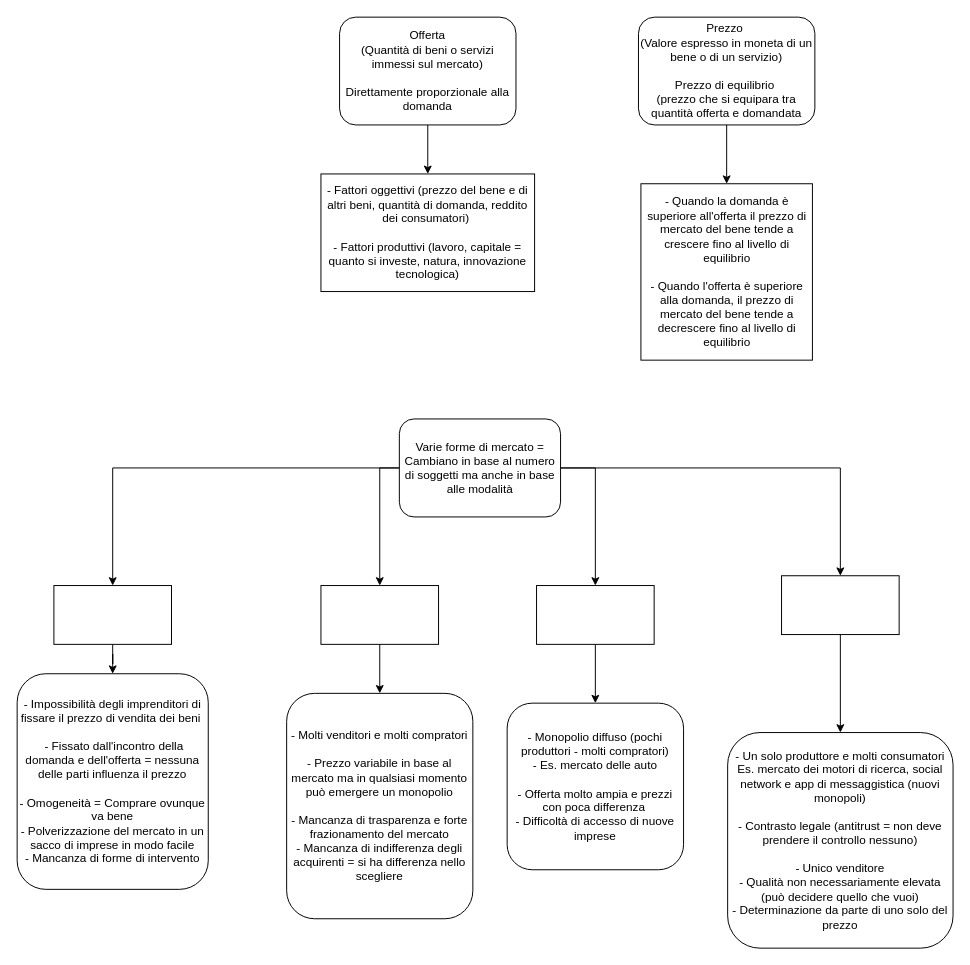
This 970x965 diagram has some shape labels left out. Here are the shapes that lost their labels. From the top down, the centre of each, then its label:
At (x=112, y=614): "Concorrenza perfetta".
At (x=379, y=614): "Concorrenza imperfetta".
At (x=595, y=614): "Oligopolio".
At (x=840, y=605): "Monopolio".
